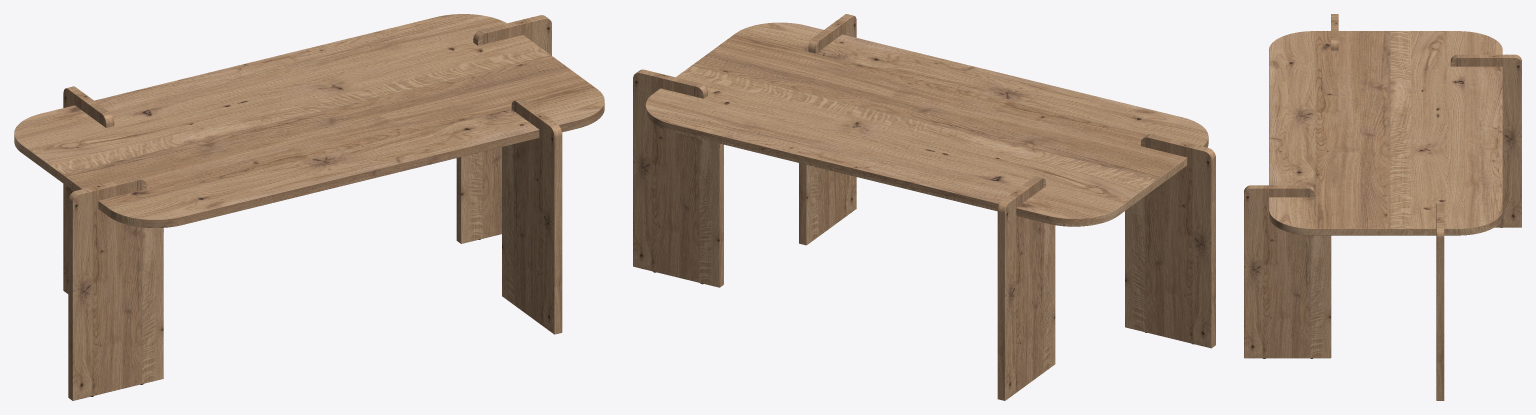
Rendered from glb5.glb.
3 views of the same model, side by side, from view 1: azimuth 30°, elevation 25°; view 2: azimuth 150°, elevation 25°; view 3: azimuth 270°, elevation 25° (orthographic). The views are drawn at different scales.
Parts seen in each view (by area): view 1: Tops.001, Plane, Plane.006, Plane.005, Plane.004; view 2: Tops.001, Plane, Plane.005, Plane.004, Plane.006; view 3: Tops.001, Plane.006, Plane.004, Plane.005, Plane.
Boxes of the visible parts, box(x1,y1,x2,y2) form: Tops.001: box(14, 14, 604, 227); Plane: box(68, 176, 163, 400); Plane.006: box(502, 99, 562, 334); Plane.005: box(456, 15, 551, 243); Plane.004: box(63, 86, 114, 293); Tops.001: box(645, 22, 1208, 226); Plane: box(1125, 134, 1215, 348); Plane.005: box(633, 69, 723, 287); Plane.004: box(997, 176, 1055, 400); Plane.006: box(799, 14, 856, 245); Tops.001: box(1269, 31, 1502, 235); Plane.006: box(1244, 185, 1331, 358); Plane.004: box(1450, 54, 1521, 227); Plane.005: box(1436, 203, 1444, 400); Plane: box(1331, 14, 1338, 50).
Bounding box in the file's own units: 1.33 × 0.4868 × 0.7131.
Materials: 2 (1 with a texture image).
